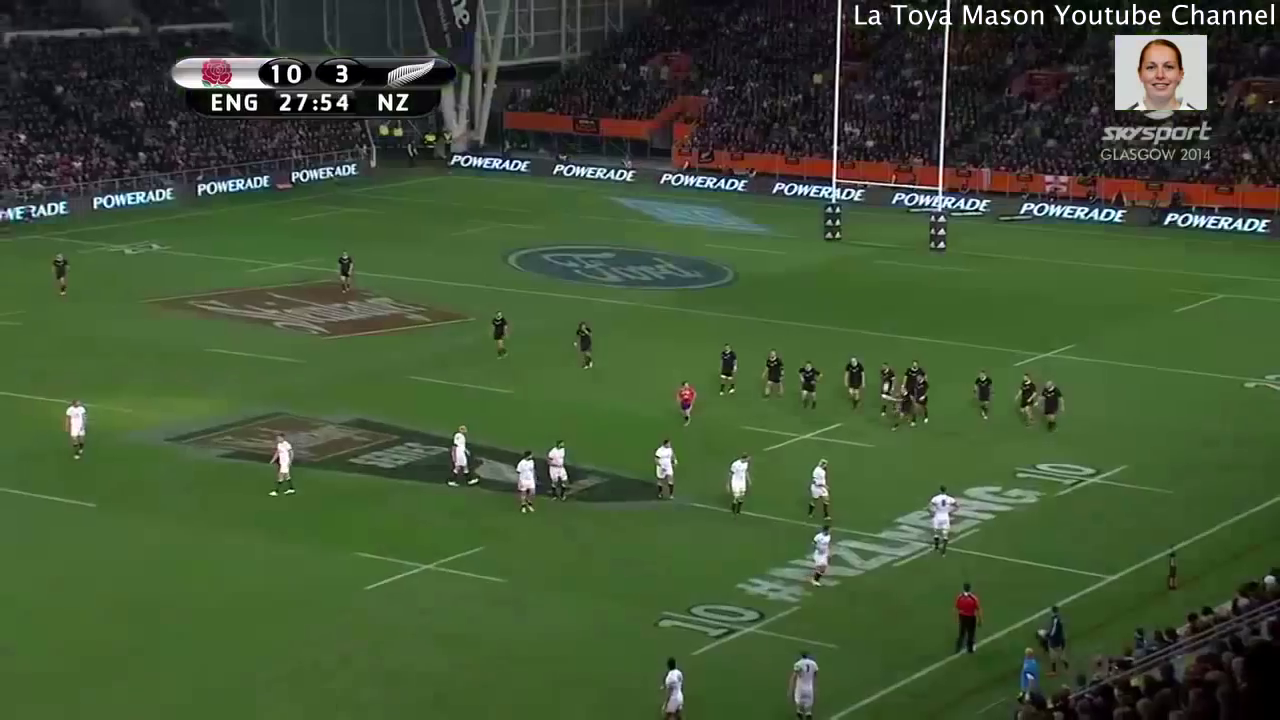10_metre: (657, 596, 845, 669), (343, 537, 513, 599), (1010, 451, 1180, 502), (731, 417, 878, 464)
player: (439, 422, 484, 489), (921, 482, 958, 561), (645, 435, 682, 508), (721, 447, 757, 520), (784, 647, 820, 720), (58, 396, 97, 463), (265, 428, 301, 499), (801, 452, 835, 526), (651, 654, 688, 720), (542, 434, 573, 511), (1033, 375, 1069, 439), (511, 444, 542, 517), (837, 352, 869, 422), (969, 364, 1000, 431), (713, 342, 744, 404), (757, 348, 789, 408), (882, 384, 919, 435), (793, 356, 822, 419), (804, 524, 832, 589), (571, 317, 601, 376), (1012, 369, 1040, 432), (909, 368, 936, 430), (482, 306, 511, 362), (672, 374, 699, 432), (333, 248, 361, 296), (872, 356, 891, 422), (49, 252, 74, 302), (899, 355, 927, 389)
post: (811, 1, 964, 256)
